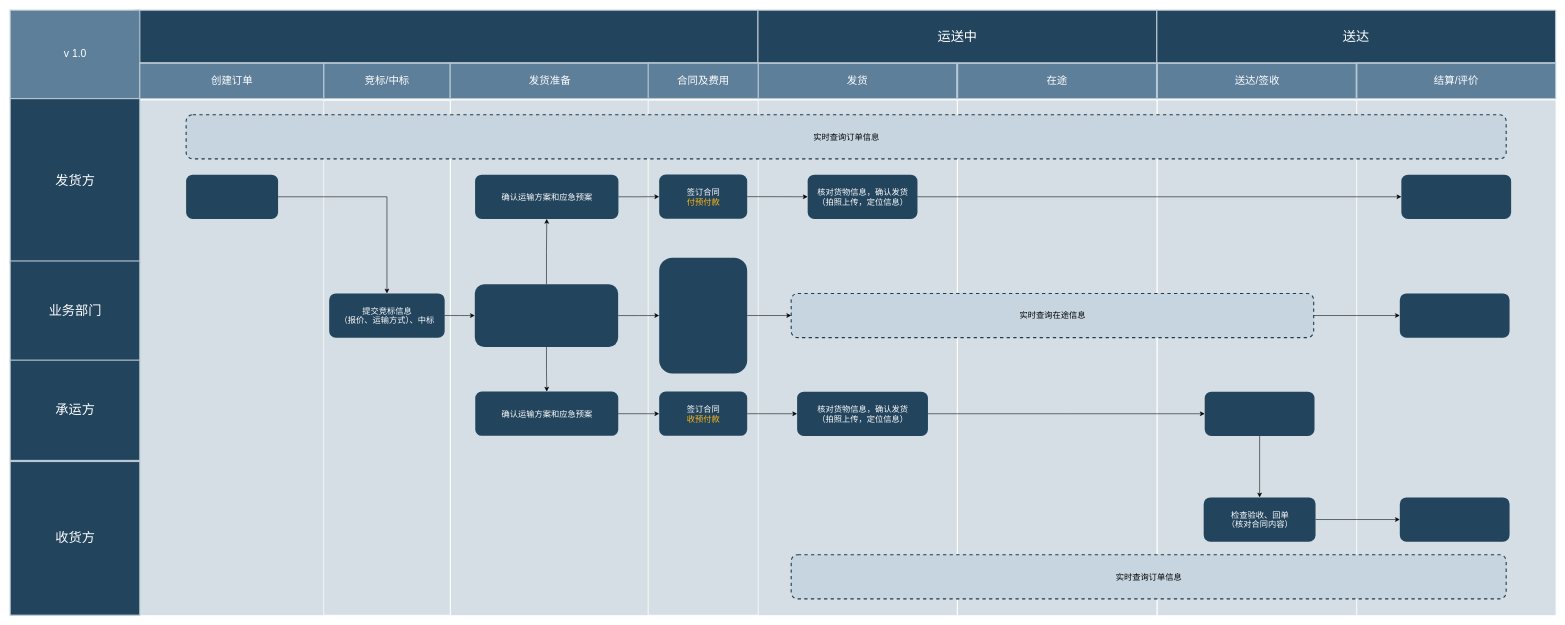
Image size: 1565x625. Some labels were removed from this diagram. Each missing label, with the box of its shape:
与发货方签订合同 收预付款 / 与承运方签订合同 付预付款: (659, 257, 747, 373)
制定运输方案 （运输路线、时间、费用 及运输方式）、应急预案， 安排车辆和司机: (475, 284, 618, 347)
提交运输信息 线上下单: (186, 174, 278, 219)
提交送达 （拍照上传、定位信息）: (1204, 391, 1314, 436)
费用结算 对司机评价: (1400, 293, 1509, 337)
费用结算 对承运方运送服务评价: (1401, 174, 1511, 219)
费用结算 对货物和承运方 运送服务评价: (1400, 497, 1509, 541)
运送前: (134, 9, 758, 63)
